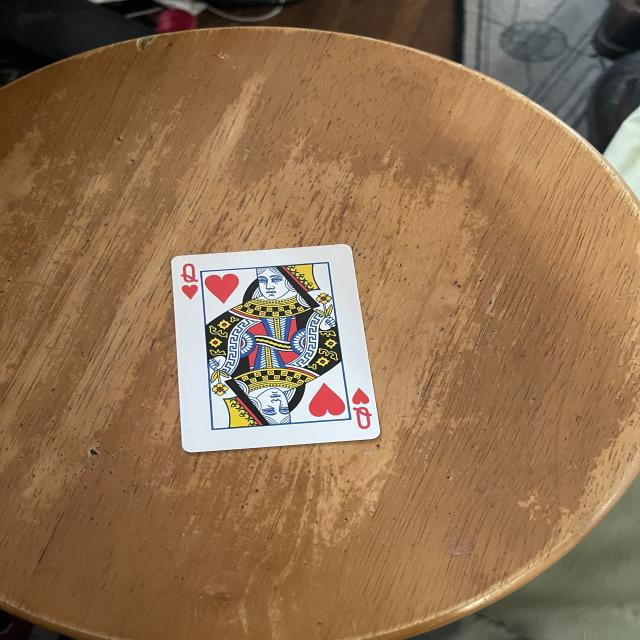Queen of hearts: (174, 244, 378, 451)
